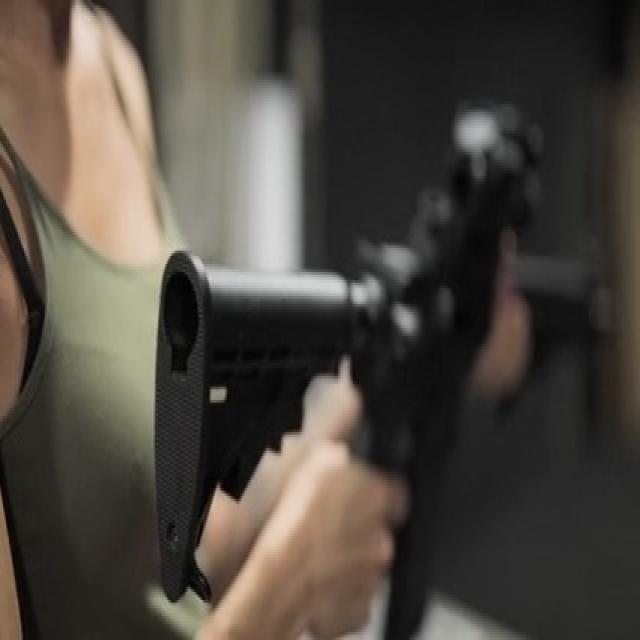Gun_Holder: (133, 31, 640, 639)
